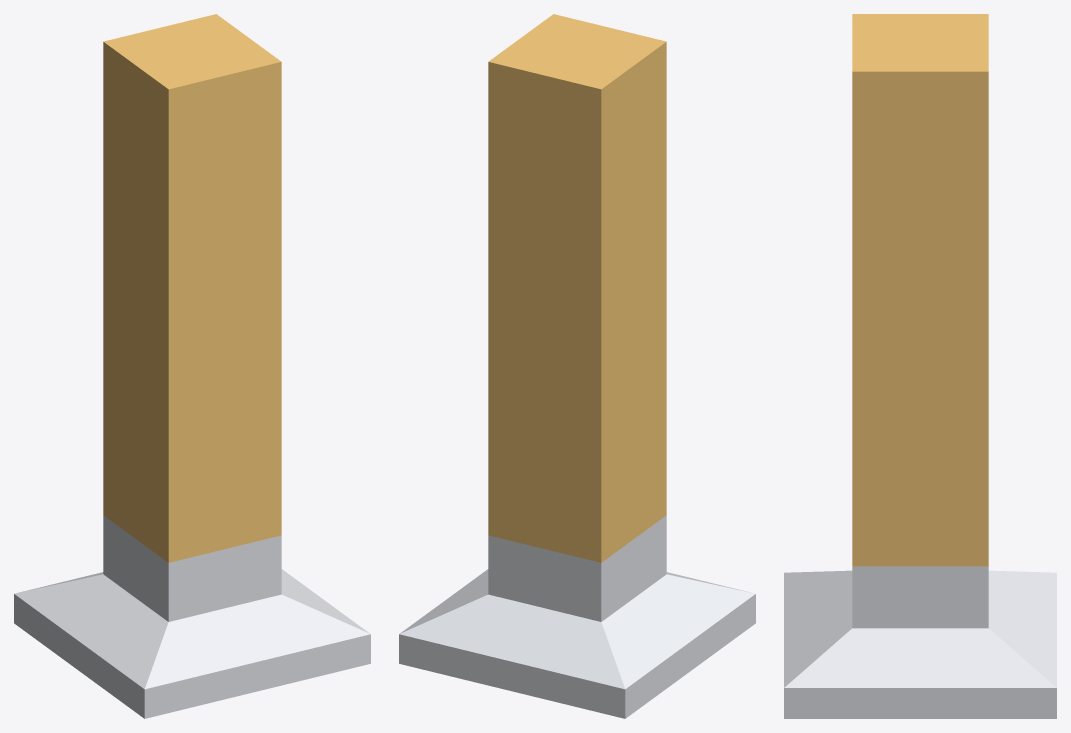
Rendered from pipe_supportHigh.glb.
3 renders of one model, left to right at view 1: azimuth 30°, elevation 25°; view 2: azimuth 150°, elevation 25°; view 3: azimuth 270°, elevation 25°, orthographic. The views are drawn at different scales.
Parts seen in each view (by area): view 1: pipe_supportHigh; view 2: pipe_supportHigh; view 3: pipe_supportHigh.
Part boxes in pixels (x1,y1,x2,y2): pipe_supportHigh: [14, 14, 370, 718]; pipe_supportHigh: [399, 14, 755, 718]; pipe_supportHigh: [784, 14, 1056, 718].
Bounding box in the file's own units: 0.5616 × 1.4 × 0.5616.
